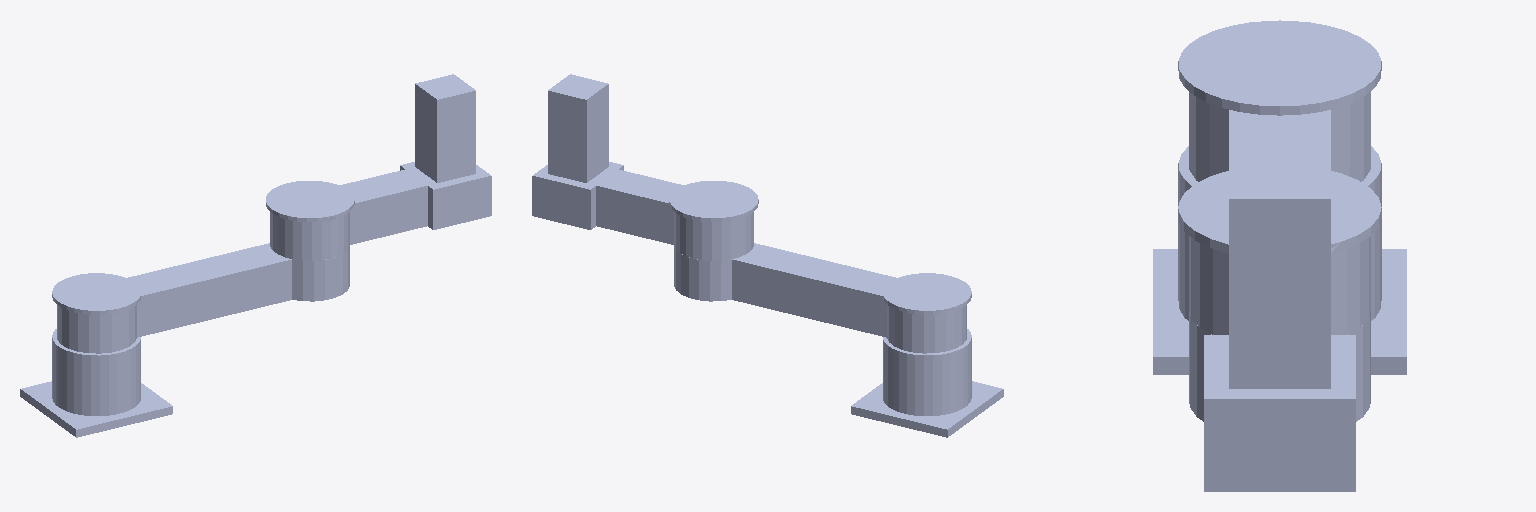
robot.urdf — 3D_CAD_Scara8:
<?xml version="1.0" encoding="utf-8"?>
<!-- This URDF was automatically created by SolidWorks to URDF Exporter! Originally created by Stephen Brawner (brawner@gmail.com) 
     Commit Version: 1.6.0-4-g7f85cfe  Build Version: 1.6.7995.38578
     For more information, please see http://wiki.ros.org/sw_urdf_exporter -->
<robot
  name="3D_CAD_Scara8">
  <link
    name="base_link">
    <inertial>
      <origin
        xyz="0 -3.46944695195361E-18 0.113260302039731"
        rpy="0 0 0" />
      <mass
        value="7.81592864600267" />
      <inertia
        ixx="0.0717820556775515"
        ixy="-5.78241158658935E-19"
        ixz="2.18538400080141E-18"
        iyy="0.0717820556775515"
        iyz="1.34858373855936E-18"
        izz="0.0419250565426863" />
    </inertial>
    <visual>
      <origin
        xyz="0 0 0"
        rpy="0 0 0" />
      <geometry>
        <mesh
          filename="package://3D_CAD_Scara8/meshes/base_link.STL" />
      </geometry>
      <material
        name="">
        <color
          rgba="0.792156862745098 0.819607843137255 0.933333333333333 1" />
      </material>
    </visual>
    <collision>
      <origin
        xyz="0 0 0"
        rpy="0 0 0" />
      <geometry>
        <mesh
          filename="package://3D_CAD_Scara8/meshes/base_link.STL" />
      </geometry>
    </collision>
  </link>
  <link
    name="Link01_Link">
    <inertial>
      <origin
        xyz="0.370271442843165 1.38777878078145E-17 0.0173220805169391"
        rpy="0 0 0" />
      <mass
        value="8.88681009624485" />
      <inertia
        ixx="0.0336698999754297"
        ixy="-4.18657157939023E-18"
        ixz="-0.0276670618254063"
        iyy="0.38037068204283"
        iyz="1.40162339073945E-18"
        izz="0.373774678100568" />
    </inertial>
    <visual>
      <origin
        xyz="0 0 0"
        rpy="0 0 0" />
      <geometry>
        <mesh
          filename="package://3D_CAD_Scara8/meshes/Link01_Link.STL" />
      </geometry>
      <material
        name="">
        <color
          rgba="0.792156862745098 0.819607843137255 0.933333333333333 1" />
      </material>
    </visual>
    <collision>
      <origin
        xyz="0 0 0"
        rpy="0 0 0" />
      <geometry>
        <mesh
          filename="package://3D_CAD_Scara8/meshes/Link01_Link.STL" />
      </geometry>
    </collision>
  </link>
  <joint
    name="Joint01_joint"
    type="continuous">
    <origin
      xyz="0 0 0.22"
      rpy="0 0 0" />
    <parent
      link="base_link" />
    <child
      link="Link01_Link" />
    <axis
      xyz="0 0 1" />
  </joint>
  <link
    name="Link02_Link">
    <inertial>
      <origin
        xyz="0.174408306120746 9.11106830771106E-05 0.00387140852064088"
        rpy="0 0 0" />
      <mass
        value="4.46317135032902" />
      <inertia
        ixx="0.0133846284356313"
        ixy="-2.76530612550118E-05"
        ixz="0.00301355919278687"
        iyy="0.0962243535370692"
        iyz="1.57427958940252E-06"
        izz="0.100921848562148" />
    </inertial>
    <visual>
      <origin
        xyz="0 0 0"
        rpy="0 0 0" />
      <geometry>
        <mesh
          filename="package://3D_CAD_Scara8/meshes/Link02_Link.STL" />
      </geometry>
      <material
        name="">
        <color
          rgba="0.792156862745098 0.819607843137255 0.933333333333333 1" />
      </material>
    </visual>
    <collision>
      <origin
        xyz="0 0 0"
        rpy="0 0 0" />
      <geometry>
        <mesh
          filename="package://3D_CAD_Scara8/meshes/Link02_Link.STL" />
      </geometry>
    </collision>
  </link>
  <joint
    name="joint02_joint"
    type="continuous">
    <origin
      xyz="0.55 0 0.100000000000002"
      rpy="0 0 0" />
    <parent
      link="Link01_Link" />
    <child
      link="Link02_Link" />
    <axis
      xyz="0 0 1" />
  </joint>
  <link
    name="Link03_Link">
    <inertial>
      <origin
        xyz="3.7470027081099E-16 1.21430643318376E-16 -0.0495990747723838"
        rpy="0 0 0" />
      <mass
        value="3.121" />
      <inertia
        ixx="0.0279173373972018"
        ixy="5.55226867450216E-19"
        ixz="-3.57008352538505E-18"
        iyy="0.0279173373972018"
        iyz="-3.24628074469936E-18"
        izz="0.00524401666666668" />
    </inertial>
    <visual>
      <origin
        xyz="0 0 0"
        rpy="0 0 0" />
      <geometry>
        <mesh
          filename="package://3D_CAD_Scara8/meshes/Link03_Link.STL" />
      </geometry>
      <material
        name="">
        <color
          rgba="0.792156862745098 0.819607843137255 0.933333333333333 1" />
      </material>
    </visual>
    <collision>
      <origin
        xyz="0 0 0"
        rpy="0 0 0" />
      <geometry>
        <mesh
          filename="package://3D_CAD_Scara8/meshes/Link03_Link.STL" />
      </geometry>
    </collision>
  </link>
  <joint
    name="joint03_joint"
    type="prismatic">
    <origin
      xyz="0.35 0.00012531 0.05"
      rpy="3.1416 0 0" />
    <parent
      link="Link02_Link" />
    <child
      link="Link03_Link" />
    <axis
      xyz="0 0 1" />
    <limit
      lower="0"
      upper="0.20561"
      effort="0"
      velocity="0" />
  </joint>
  <link
    name="End_efector_Link">
    <inertial>
      <origin
        xyz="0 -1.38777878078145E-17 -0.153990708106376"
        rpy="0 0 0" />
      <mass
        value="3.121" />
      <inertia
        ixx="0.0279173373972018"
        ixy="5.55226867450214E-19"
        ixz="-3.85544939312015E-18"
        iyy="0.0279173373972018"
        iyz="-3.25208985030926E-18"
        izz="0.00524401666666668" />
    </inertial>
    <visual>
      <origin
        xyz="0 0 0"
        rpy="0 0 0" />
      <geometry>
        <mesh
          filename="package://3D_CAD_Scara8/meshes/End_efector_Link.STL" />
      </geometry>
      <material
        name="">
        <color
          rgba="0.792156862745098 0.819607843137255 0.933333333333333 1" />
      </material>
    </visual>
    <collision>
      <origin
        xyz="0 0 0"
        rpy="0 0 0" />
      <geometry>
        <mesh
          filename="package://3D_CAD_Scara8/meshes/End_efector_Link.STL" />
      </geometry>
    </collision>
  </link>
  <joint
    name="Endefector_joint"
    type="fixed">
    <origin
      xyz="0 0 0.10439"
      rpy="0 0 0" />
    <parent
      link="Link03_Link" />
    <child
      link="End_efector_Link" />
    <axis
      xyz="0 0 0" />
  </joint>
</robot>

--- Facts derived from the render (not from the file) ---
3 views of the same robot in one strip: view 1: azimuth 30°, elevation 25°; view 2: azimuth 150°, elevation 25°; view 3: azimuth 270°, elevation 25° (orthographic).
Model 3D_CAD_Scara8 with 5 links and 4 joints (2 continuous, 1 prismatic, 1 fixed), rooted at base_link, posed every joint at zero.
Visible links, largest first — view 1: Link01_Link, Link02_Link, base_link, Link03_Link, End_efector_Link; view 2: Link01_Link, Link02_Link, base_link, Link03_Link, End_efector_Link; view 3: Link02_Link, base_link, Link03_Link, Link01_Link, End_efector_Link.
Boxes of the visible links, <box> form: Link01_Link: <box>57,243,349,353</box>; Link02_Link: <box>266,162,491,260</box>; base_link: <box>20,273,172,437</box>; Link03_Link: <box>415,84,475,181</box>; End_efector_Link: <box>415,74,475,182</box>; Link01_Link: <box>674,243,966,353</box>; Link02_Link: <box>532,162,758,260</box>; base_link: <box>851,273,1003,437</box>; Link03_Link: <box>548,86,608,182</box>; End_efector_Link: <box>548,74,608,182</box>; Link02_Link: <box>1178,171,1381,491</box>; base_link: <box>1153,20,1406,374</box>; Link03_Link: <box>1229,199,1330,388</box>; Link01_Link: <box>1189,92,1370,421</box>; End_efector_Link: <box>1229,156,1330,388</box>.
Bounding box of the posed robot: 1.1 × 0.25 × 0.5756 m (x, y, z).
5 mesh visuals loaded from 5 distinct referenced files (5 binary STL).
